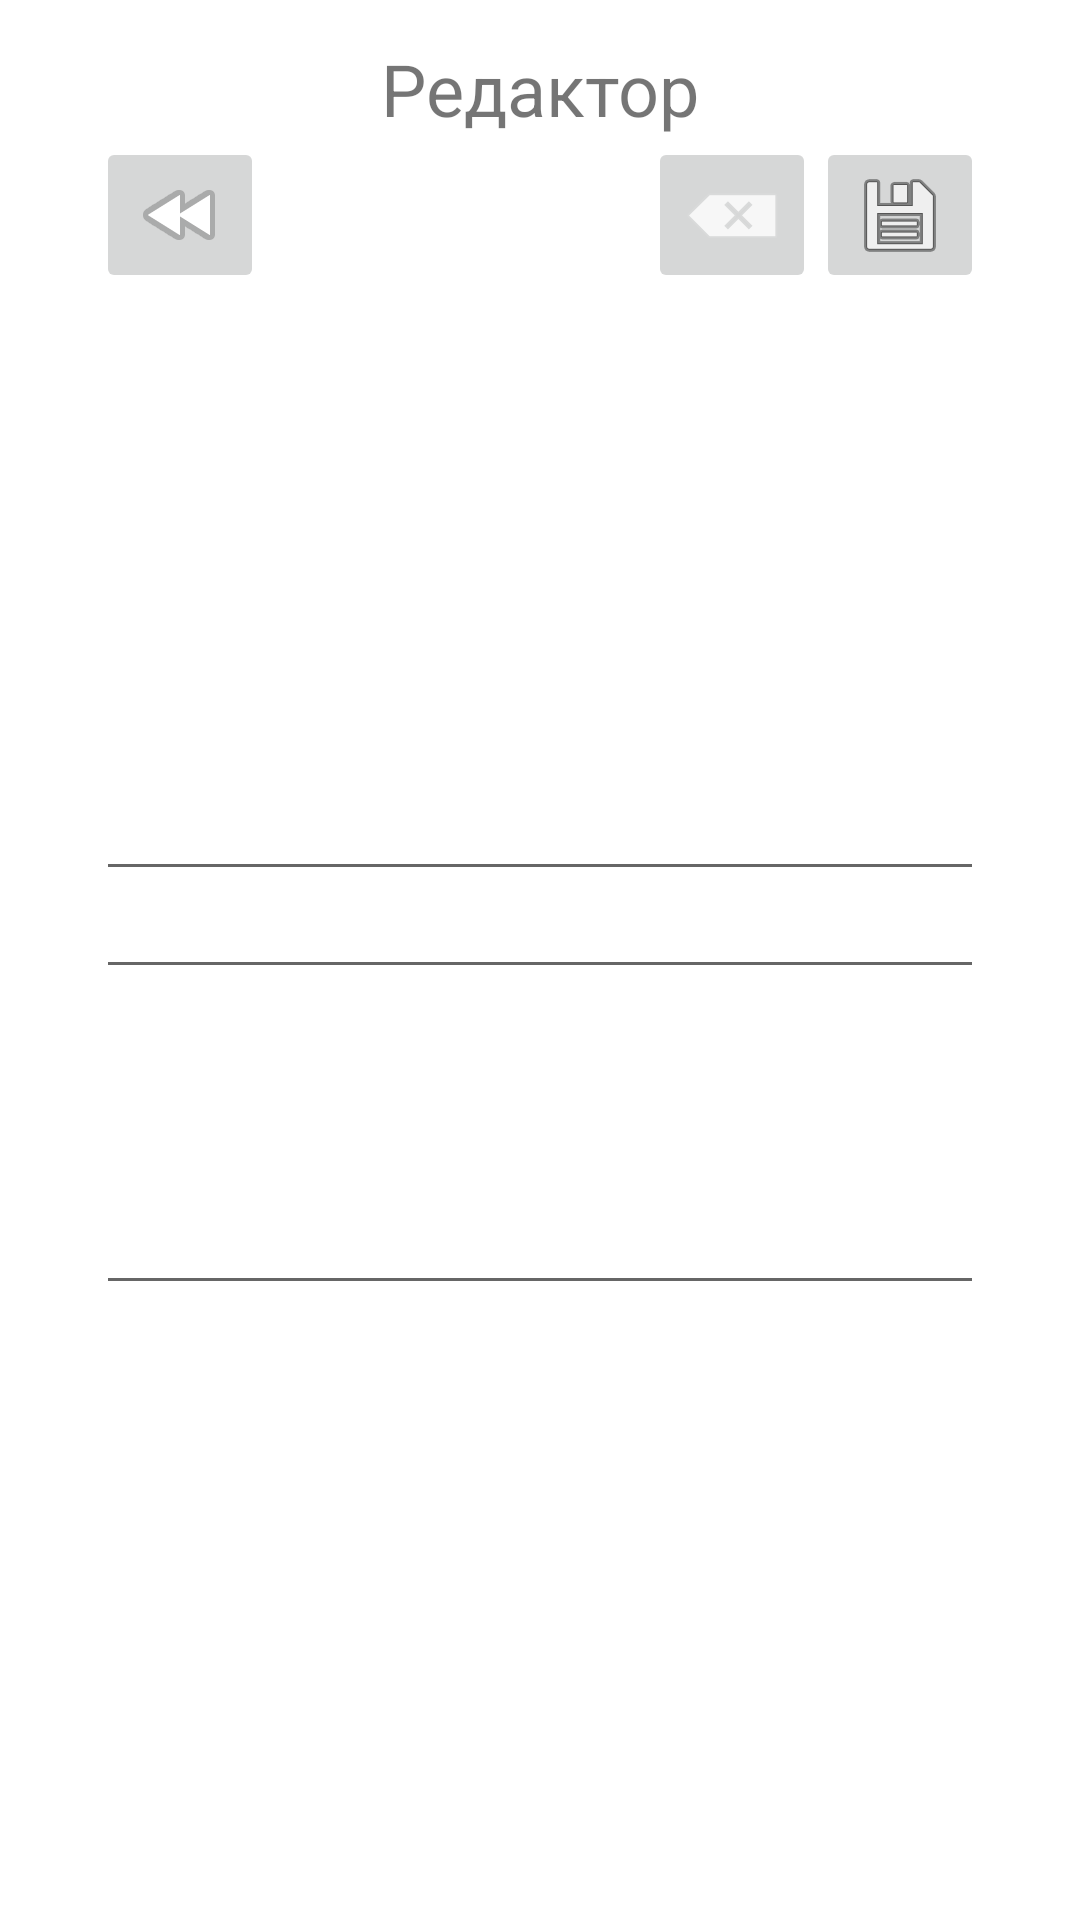

Icons on this 1080x1920 Android screen, each with its box as (x1, y1, x2, y2):
delete: (660, 155, 804, 275)
rew: (108, 155, 252, 275)
save: (828, 155, 972, 275)
